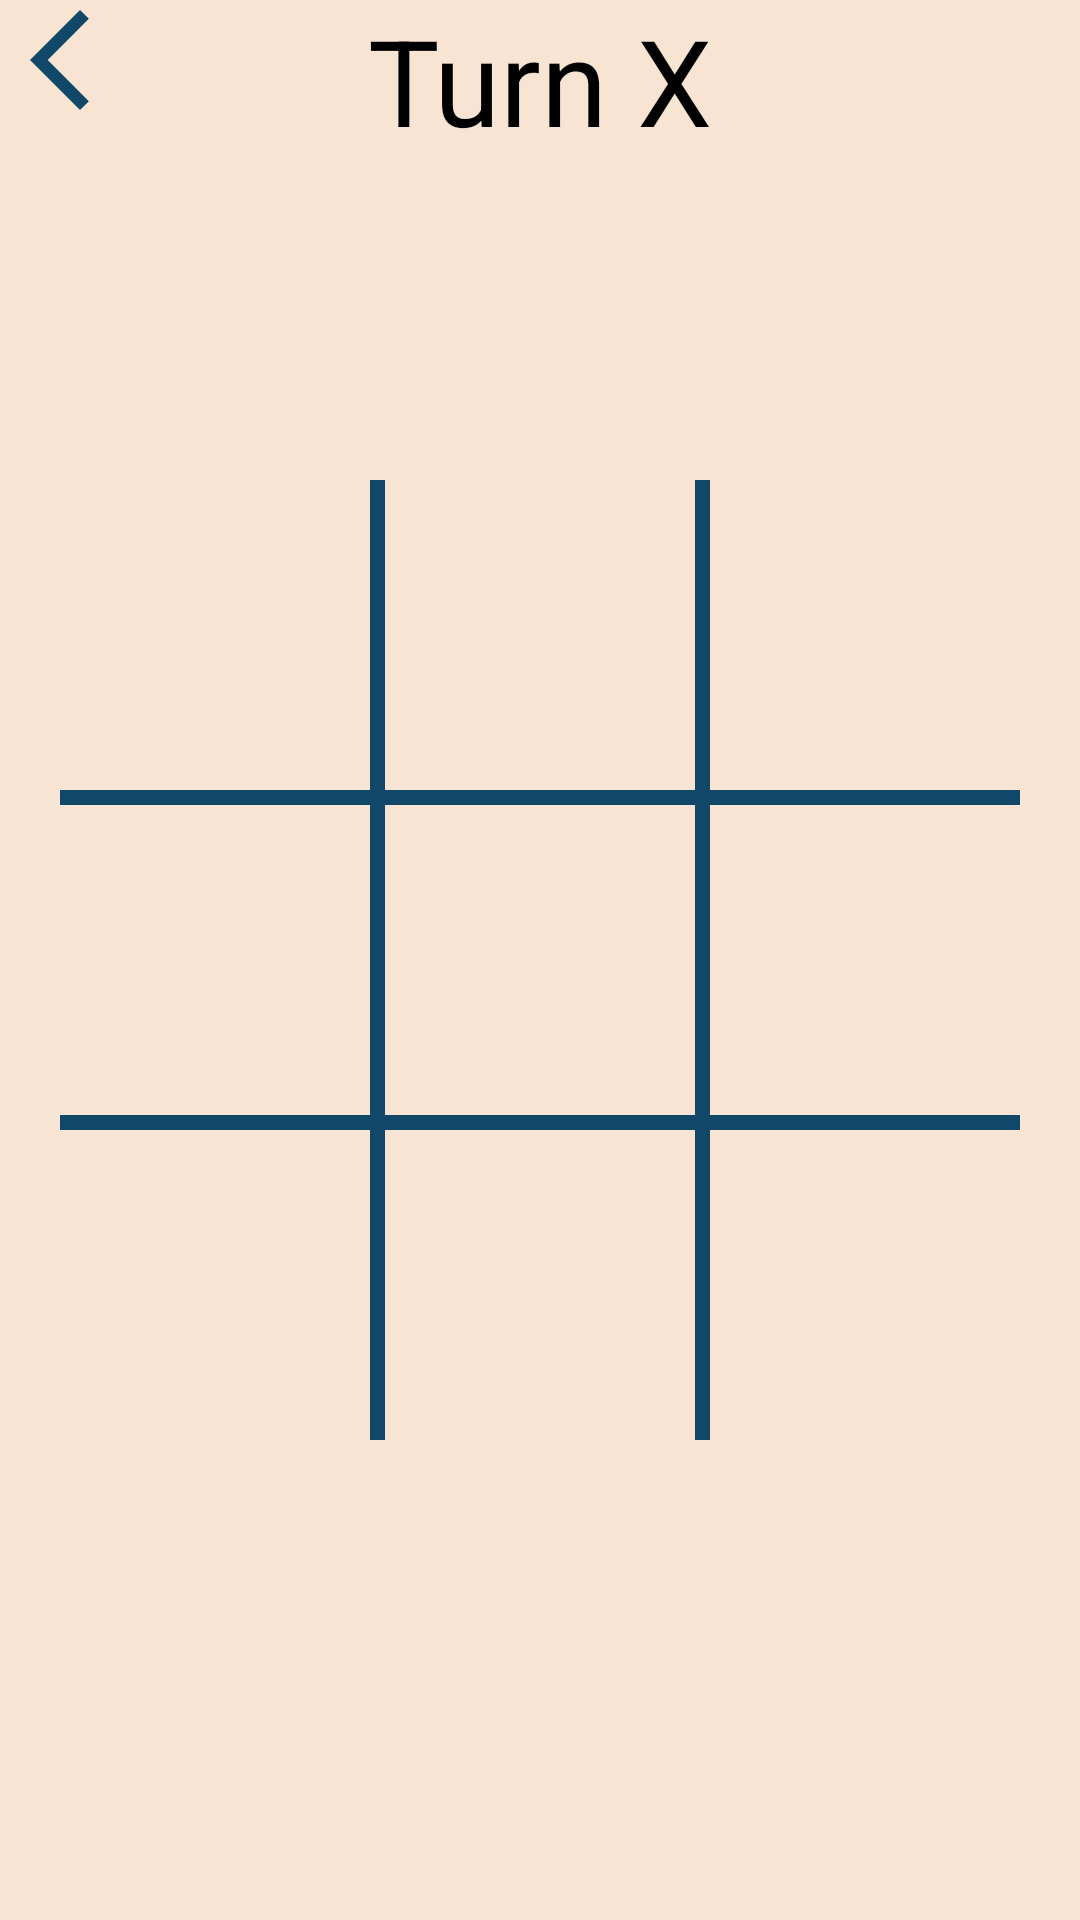

Named icons in this screenshot (1080x1920) and their bounding boxes, (x1, y1, x2, y2):
back: (30, 10, 89, 110)
